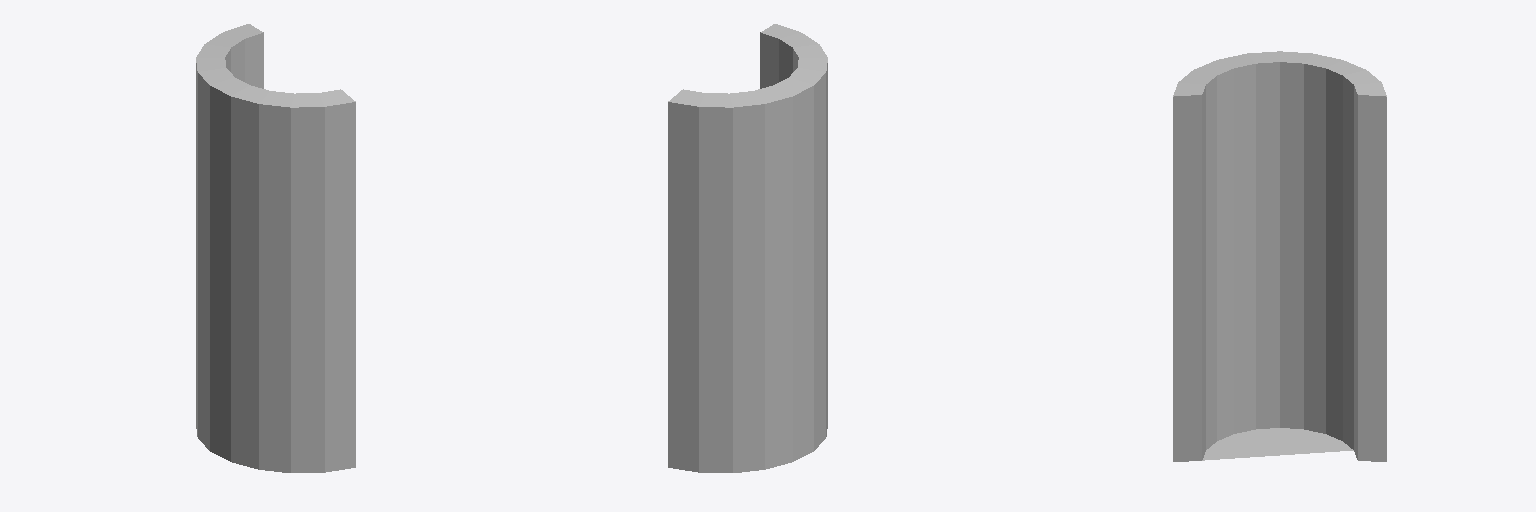
File: Placeholder_Elevatordoor.obj
The picture shows the model from 3 angles: view 1: azimuth 30°, elevation 25°; view 2: azimuth 150°, elevation 25°; view 3: azimuth 270°, elevation 25°; orthographic projection.
Parts seen in each view (by area): view 1: default; view 2: default; view 3: default.
Part boxes in pixels (bbox=[...]): default: bbox=[196, 24, 355, 472]; default: bbox=[668, 24, 827, 472]; default: bbox=[1173, 51, 1386, 461].
Bounding box in the file's own units: 7.59 × 28.71 × 15.17.